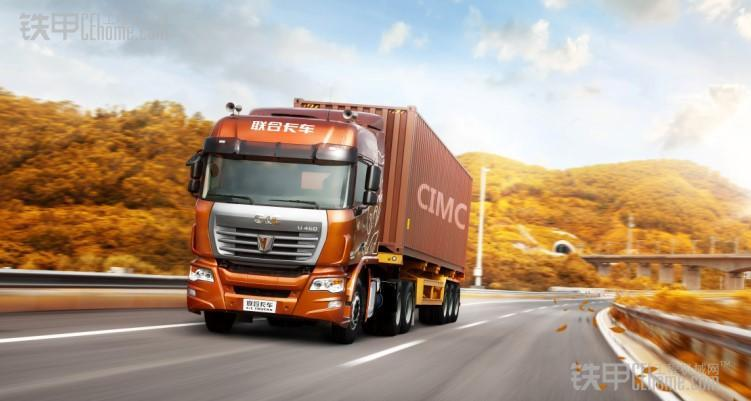truck: (171, 76, 480, 345)
